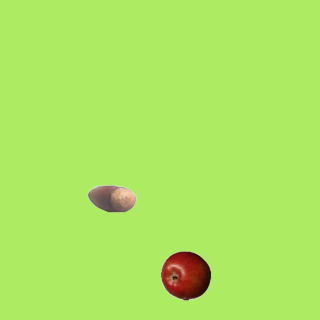Apple Braeburn: (160, 250, 210, 300)
Hazelnut: (86, 173, 136, 223)
